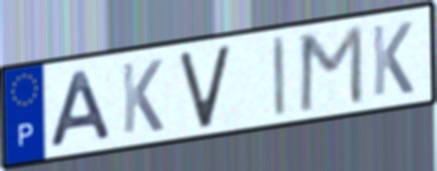A: (45, 67, 116, 150)
I: (269, 33, 288, 121)
K: (119, 56, 166, 137), (369, 19, 416, 99)
M: (296, 22, 366, 116)
V: (176, 41, 233, 132)
